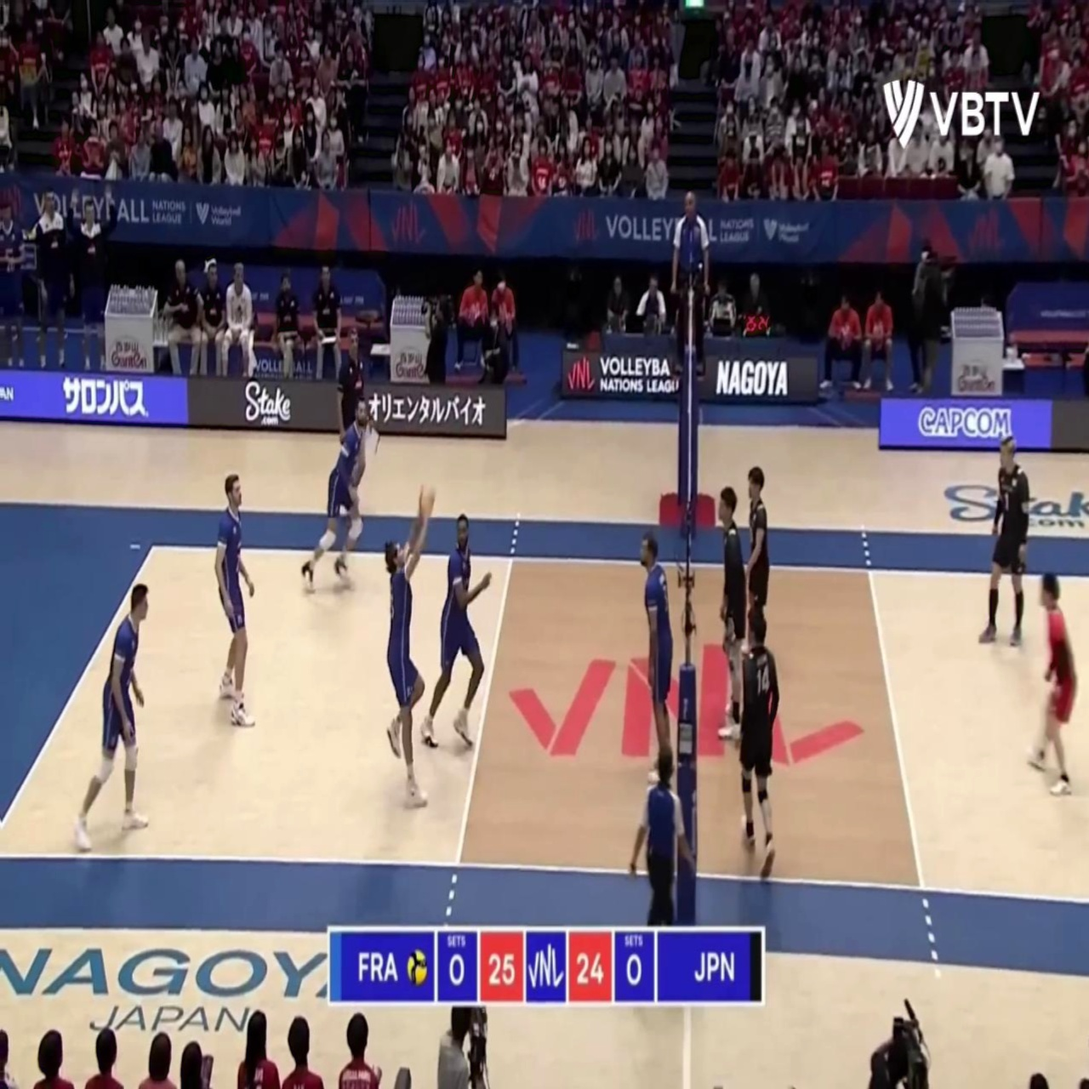ball: (417, 484, 434, 515)
